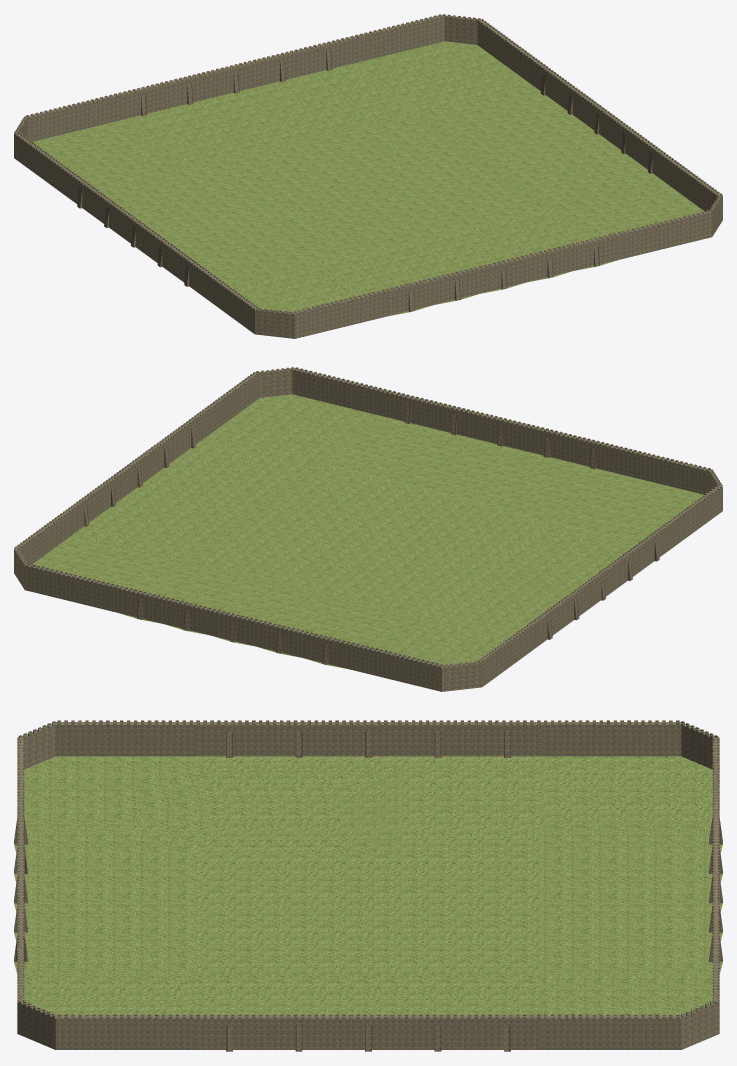
File: map50Field1.fbx
3 views of the same model, one above another, from view 1: azimuth 30°, elevation 25°; view 2: azimuth 150°, elevation 25°; view 3: azimuth 270°, elevation 25° (orthographic). The views are drawn at different scales.
Visible parts, largest first — view 1: map50F_Layer1, map50F_Layer2, map50F_Layer3, map50F_Layer4; view 2: map50F_Layer1, map50F_Layer2, map50F_Layer3, map50F_Layer4; view 3: map50F_Layer1, map50F_Layer2, map50F_Layer3, map50F_Layer4.
Part boxes in pixels (box(x1,y1,x2,y2)): map50F_Layer1: box(33, 41, 704, 315); map50F_Layer2: box(14, 15, 722, 338); map50F_Layer3: box(14, 14, 722, 314); map50F_Layer4: box(77, 49, 652, 311); map50F_Layer1: box(32, 394, 703, 668); map50F_Layer2: box(14, 368, 722, 691); map50F_Layer3: box(14, 367, 722, 667); map50F_Layer4: box(84, 402, 659, 664); map50F_Layer1: box(14, 756, 722, 1015); map50F_Layer2: box(17, 722, 719, 1049); map50F_Layer3: box(17, 720, 719, 1018); map50F_Layer4: box(14, 731, 722, 1051).
Bounding box in the file's own units: 2.04 × 0.1117 × 2.04.
Materials: 4 (4 with a texture image).
